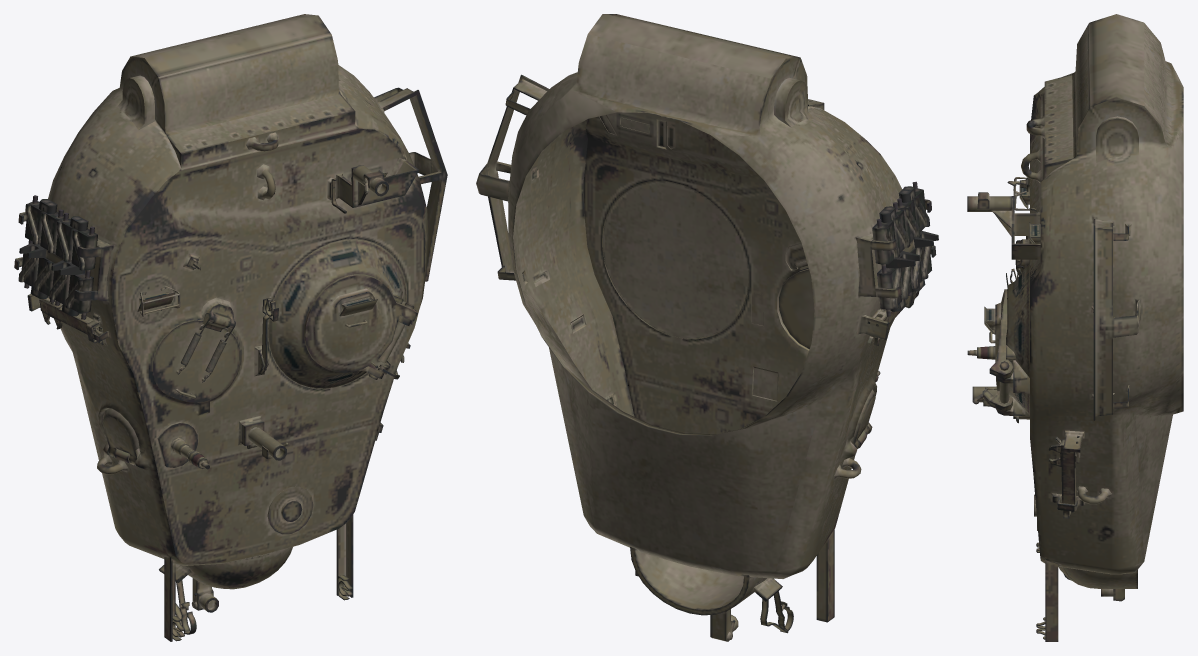
File: Turret_01.glb
3 views of the same model, side by side, from view 1: azimuth 30°, elevation 25°; view 2: azimuth 150°, elevation 25°; view 3: azimuth 270°, elevation 25° (orthographic). The views are drawn at different scales.
Parts seen in each view (by area): view 1: set_0_group_0; view 2: set_0_group_0; view 3: set_0_group_0.
Part boxes in pixels (x1,y1,x2,y2): set_0_group_0: [14, 14, 447, 641]; set_0_group_0: [476, 14, 938, 641]; set_0_group_0: [967, 14, 1183, 641].
Bounding box in the file's own units: 2.81 × 3.66 × 1.29.
1 material, 1 textured.
